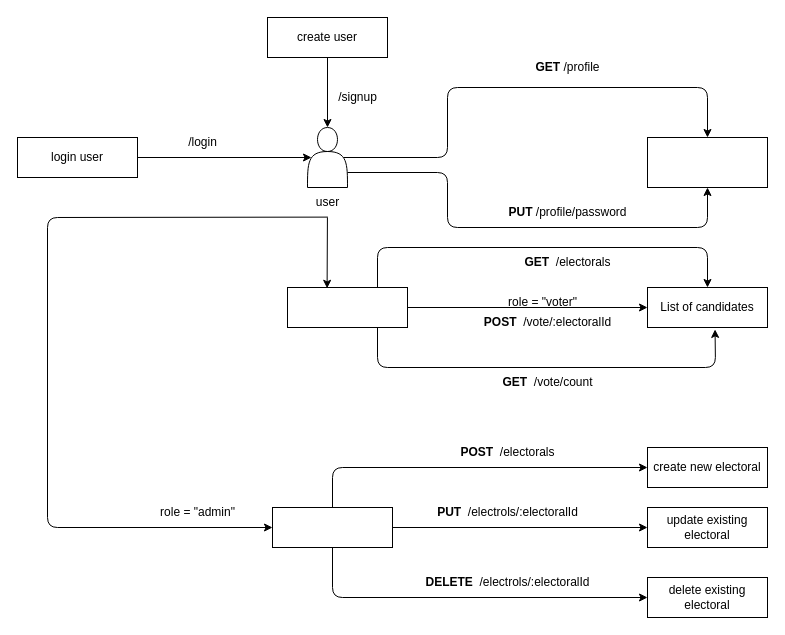
Some shapes in this 785 by 635 pixel diagram are drawn without their labels. The centre of each missing label's shape, as x and y in pixels:
"access the profile / change the password" goes at [707,162].
"electoral management" goes at [332,527].
"vote" goes at [347,307].
